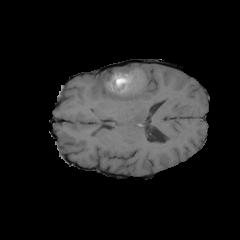glioma: (96, 65, 148, 123)
